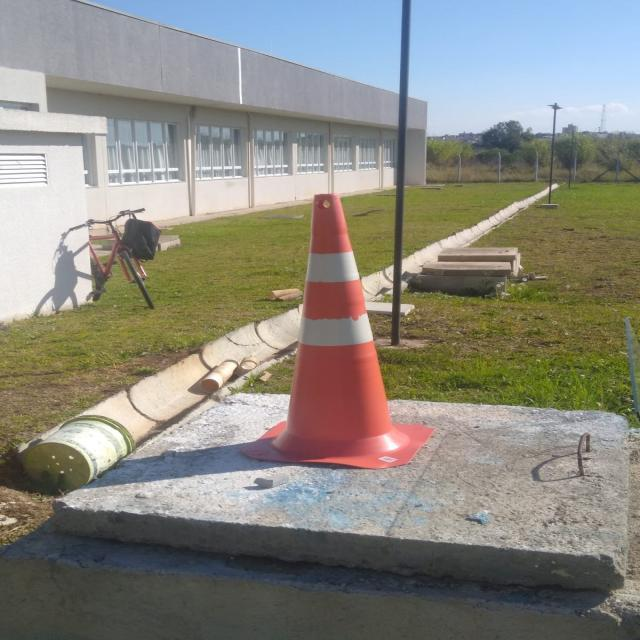Cone: (228, 191, 433, 467)
